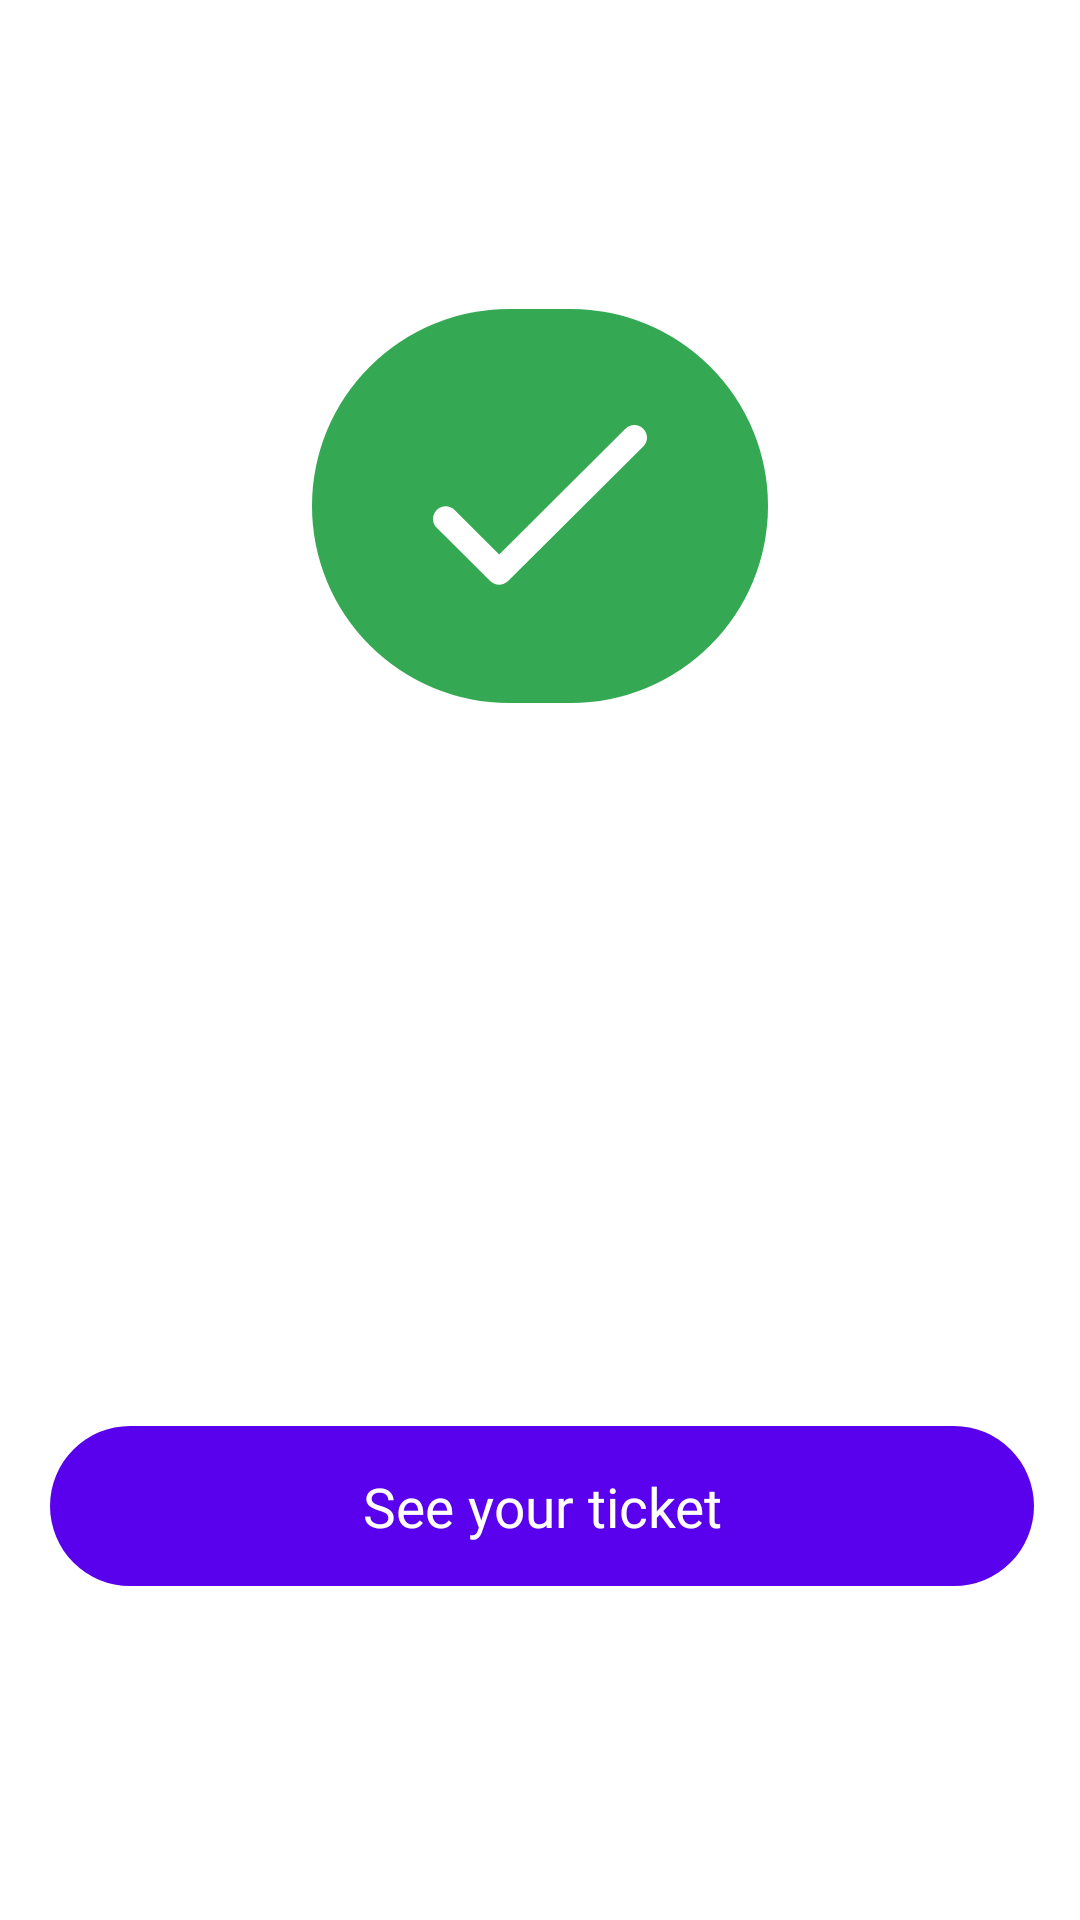

Where to tap for icons on this 1080 × 1920 app screen, as point (x, y):
checkmark: point (540, 505)
